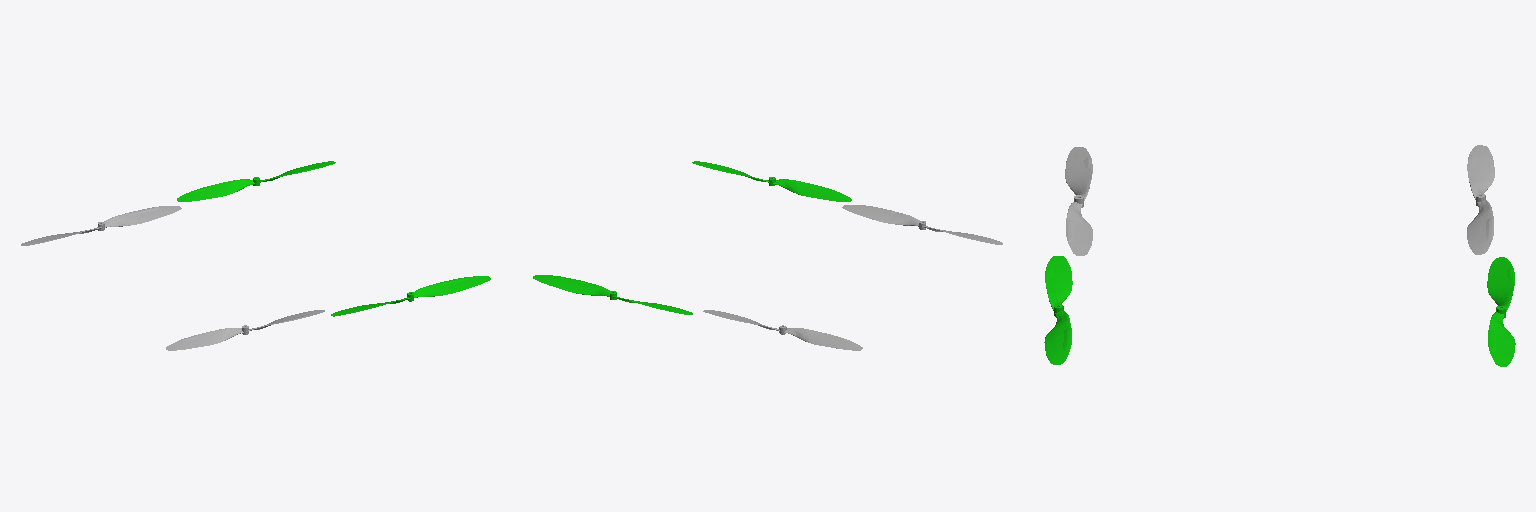
robot.urdf — iris:
<?xml version="1.0" ?>
<robot name="iris">

  <material name="grey">
    <color rgba=".7 .7 .7 1"/>
  </material>

  <material name="green">
    <color rgba=".1 .8 .1 1"/>
  </material>

  <material name="blue">
    <color rgba=".3 .5 .8 1"/>
  </material>

  <material name="red">
    <color rgba=".9 .1 .1 1"/>
  </material>

  <joint name="imu_joint" type="fixed">
    <parent link="base_link"/>
    <child link="imu_link"/>
    <origin xyz="0 0 0" rpy="0 0 0"/>
    <axis xyz="1 0 0"/>
    <limit lower="0.0" upper="0.0" effort="0.0" velocity="0.0"/>
  </joint>
  <joint name="rotor_0_joint" type="revolute">
    <parent link="base_link"/>
    <child link="rotor_0"/>
    <origin xyz="0.13  -0.22   0.023" rpy="0 0 0"/>
    <axis xyz="0 0 1"/>
    <limit lower="-1e+16" upper="1e+16" effort="0.0" velocity="0.0"/>
  </joint>
  <joint name="rotor_1_joint" type="revolute">
    <parent link="base_link"/>
    <child link="rotor_1"/>
    <origin xyz="-0.13   0.2    0.023" rpy="0 0 0"/>
    <axis xyz="0 0 1"/>
    <limit lower="-1e+16" upper="1e+16" effort="0.0" velocity="0.0"/>
  </joint>
  <joint name="rotor_2_joint" type="revolute">
    <parent link="base_link"/>
    <child link="rotor_2"/>
    <origin xyz="0.13  0.22  0.023" rpy="0 0 0"/>
    <axis xyz="0 0 1"/>
    <limit lower="-1e+16" upper="1e+16" effort="0.0" velocity="0.0"/>
  </joint>
  <joint name="rotor_3_joint" type="revolute">
    <parent link="base_link"/>
    <child link="rotor_3"/>
    <origin xyz="-0.13  -0.2    0.023" rpy="0 0 0"/>
    <axis xyz="0 0 1"/>
    <limit lower="-1e+16" upper="1e+16" effort="0.0" velocity="0.0"/>
  </joint>
  <joint name="gps0_joint" type="fixed">
    <parent link="base_link"/>
    <child link="gps0__link"/>
    <origin xyz="0.1 0  0" rpy="0 0 0"/>
    <axis xyz="0 0 0"/>
    <limit lower="0" upper="0" effort="0" velocity="0"/>
  </joint>
  <link name="base_link">
    <!-- <inertial>
      <mass value="1.5"/>
      <origin xyz="0 0 0" rpy="0 0 0"/>
      <inertia ixx="0.029125" ixy="0" ixz="0" iyy="0.029125" iyz="0" izz="0.055225"/>
    </inertial> -->
    <collision name="base_link_inertia_collision">
      <origin xyz="0 0 0" rpy="0 0 0"/>
      <geometry>
        <box size="0.47 0.47 0.11"/>
      </geometry>
    </collision>
    <visual>
      <origin xyz="0 0 0" rpy="0 0 0"/>
      <geometry>
        <mesh filename="package://fss_px4_sim/model/meshes/iris.stl" scale="1 1 1"/>
      </geometry>
      <material name="green"/> <!-- Added by Peixuan Shu -->
    </visual>
  </link>
  <link name="imu_link">
    <inertial>
      <mass value="0.015"/>
      <origin xyz="0 0 0" rpy="0 0 0"/>
      <inertia ixx="1e-05" ixy="0" ixz="0" iyy="1e-05" iyz="0" izz="1e-05"/>
    </inertial>
  </link>
  <link name="rotor_0">
    <inertial>
      <mass value="0.005"/>
      <origin xyz="0 0 0" rpy="0 0 0"/>
      <inertia ixx="9.75e-07" ixy="0" ixz="0" iyy="0.000273104" iyz="0" izz="0.000274004"/>
    </inertial>
    <collision name="rotor_0_collision">
      <origin xyz="0 0 0" rpy="0 0 0"/>
      <geometry>
        <cylinder radius="0.128" length="0.005"/>
      </geometry>
    </collision>
    <visual name="rotor_0_visual">
      <origin xyz="0 0 0" rpy="0 0 0"/>
      <geometry>
        <mesh filename="package://fss_px4_sim/model/meshes/iris_prop_ccw.stl" scale="1 1 1"/>
      </geometry>
      <material name="green"/> <!-- Added by Peixuan Shu -->
    </visual>
  </link>
  <link name="rotor_1">
    <inertial>
      <mass value="0.005"/>
      <origin xyz="0 0 0" rpy="0 0 0"/>
      <inertia ixx="9.75e-07" ixy="0" ixz="0" iyy="0.000273104" iyz="0" izz="0.000274004"/>
    </inertial>
    <collision name="rotor_1_collision">
      <origin xyz="0 0 0" rpy="0 0 0"/>
      <geometry>
        <cylinder radius="0.128" length="0.005"/>
      </geometry>
    </collision>
    <visual>
      <origin xyz="0 0 0" rpy="0 0 0"/>
      <geometry>
        <mesh filename="package://fss_px4_sim/model/meshes/iris_prop_ccw.stl" scale="1 1 1"/>
      </geometry>
      <material name="grey"/> <!-- Added by Peixuan Shu -->
    </visual>
  </link>
  <link name="rotor_2">
    <inertial>
      <mass value="0.005"/>
      <origin xyz="0 0 0" rpy="0 0 0"/>
      <inertia ixx="9.75e-07" ixy="0" ixz="0" iyy="0.000273104" iyz="0" izz="0.000274004"/>
    </inertial>
    <collision name="rotor_2_collision">
      <origin xyz="0 0 0" rpy="0 0 0"/>
      <geometry>
        <cylinder radius="0.128" length="0.005"/>
      </geometry>
    </collision>
    <visual name="rotor_2_visual">
      <origin xyz="0 0 0" rpy="0 0 0"/>
      <geometry>
        <mesh filename="package://fss_px4_sim/model/meshes/iris_prop_cw.stl" scale="1 1 1"/>
      </geometry>
      <material name="green"/> <!-- Added by Peixuan Shu -->
    </visual>
  </link>
  <link name="rotor_3">
    <inertial>
      <mass value="0.005"/>
      <origin xyz="0 0 0" rpy="0 0 0"/>
      <inertia ixx="9.75e-07" ixy="0" ixz="0" iyy="0.000273104" iyz="0" izz="0.000274004"/>
    </inertial>
    <collision name="rotor_3_collision">
      <origin xyz="0 0 0" rpy="0 0 0"/>
      <geometry>
        <cylinder radius="0.128" length="0.005"/>
      </geometry>
    </collision>
    <visual name="rotor_3_visual">
      <origin xyz="0 0 0" rpy="0 0 0"/>
      <geometry>
        <mesh filename="package://fss_px4_sim/model/meshes/iris_prop_cw.stl" scale="1 1 1"/>
      </geometry>
      <material name="grey"/> <!-- Added by Peixuan Shu -->
    </visual>
  </link>
  <link name="gps0__link">
    <inertial>
      <mass value="0.015"/>
      <origin xyz="0 0 0" rpy="0 0 0"/>
      <inertia ixx="1e-05" ixy="0" ixz="0" iyy="1e-05" iyz="0" izz="1e-05"/>
    </inertial>
    <!-- <visual name="gps0__visual">
      <origin xyz="0 0 0" rpy="0 0 0"/>
      <geometry>
        <cylinder radius="0.01" length="0.002"/>
      </geometry>
    </visual> -->
  </link>
</robot>

--- What the picture shows (computed from the rendered views, not written in the file) ---
Views: 3 orthographic renders of the robot side by side, from view 1: azimuth 30°, elevation 25°; view 2: azimuth 150°, elevation 25°; view 3: azimuth 270°, elevation 25°.
Model iris with 7 links and 6 joints (4 revolute, 2 fixed), rooted at base_link, posed every joint at zero.
Links seen in each view (by area): view 1: rotor_0, rotor_1, rotor_2, rotor_3; view 2: rotor_3, rotor_1, rotor_2, rotor_0; view 3: rotor_1, rotor_2, rotor_3, rotor_0.
Boxes of the visible links, x1,y1,x2,y2 form: rotor_0: (331, 276, 490, 316); rotor_1: (21, 206, 181, 245); rotor_2: (177, 161, 335, 201); rotor_3: (166, 310, 324, 350); rotor_3: (842, 205, 1002, 244); rotor_1: (703, 310, 862, 350); rotor_2: (533, 275, 692, 314); rotor_0: (692, 161, 851, 201); rotor_1: (1467, 145, 1494, 254); rotor_2: (1487, 257, 1515, 366); rotor_3: (1065, 147, 1092, 255); rotor_0: (1044, 256, 1072, 364).
Size in the robot's own frame: 0.5214 by 0.4686 by 0.0103 metres.
4 mesh visuals loaded from 3 distinct referenced files (2 binary STL); not drawn: 1 (reference not matched to a file when rendering).
